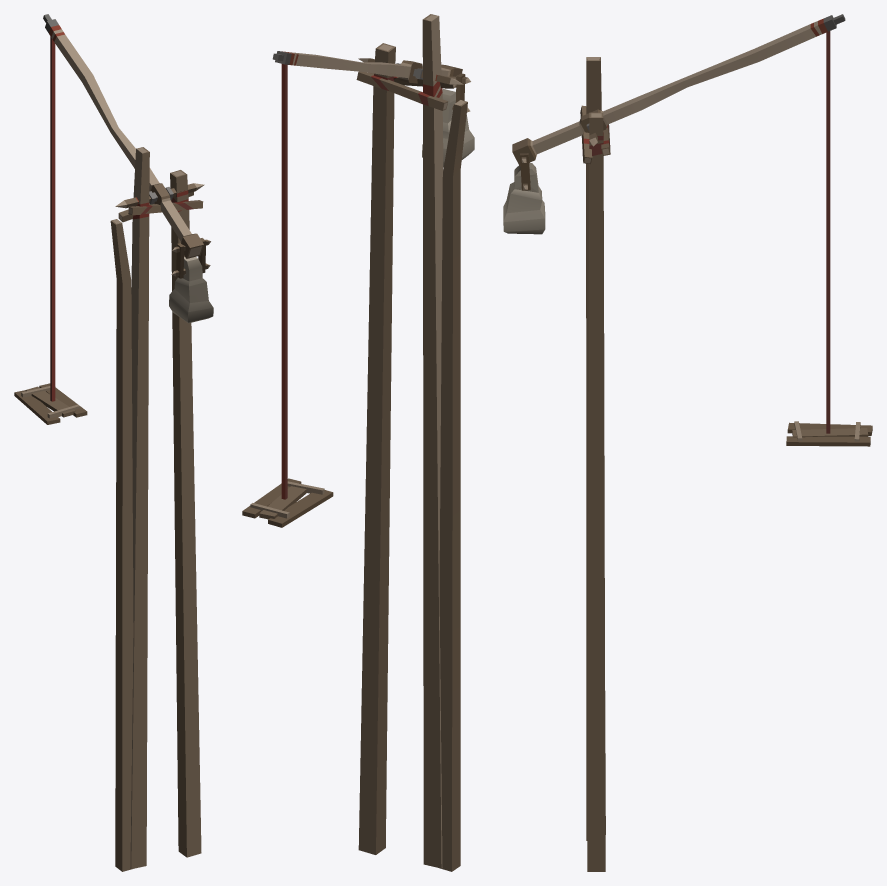
The model's file is SD_Prop_Goblin_Crane_01.fbx.
3 views of the same model, side by side, from view 1: azimuth 30°, elevation 25°; view 2: azimuth 150°, elevation 25°; view 3: azimuth 270°, elevation 25° (orthographic). The views are drawn at different scales.
Visible parts, largest first — view 1: SD_Prop_Goblin_Crane_01; view 2: SD_Prop_Goblin_Crane_01; view 3: SD_Prop_Goblin_Crane_01.
Part boxes in pixels (x1,y1,x2,y2): SD_Prop_Goblin_Crane_01: (14, 14, 213, 871); SD_Prop_Goblin_Crane_01: (242, 14, 474, 871); SD_Prop_Goblin_Crane_01: (503, 14, 872, 871).
Size of the model in its own units: 4.83 by 38.62 by 15.45.
